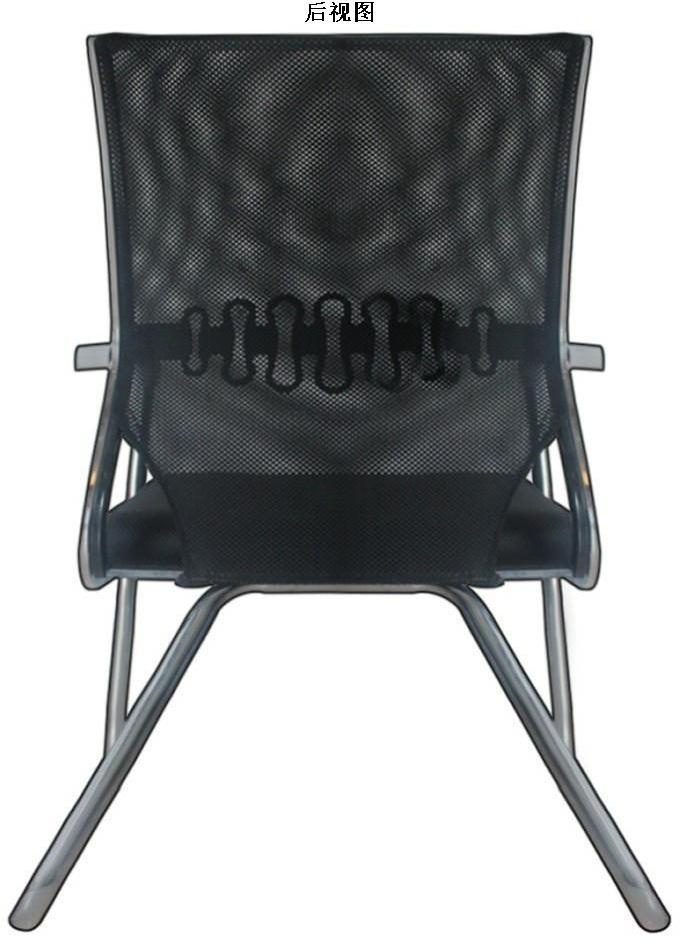obstacle: (9, 34, 668, 930)
